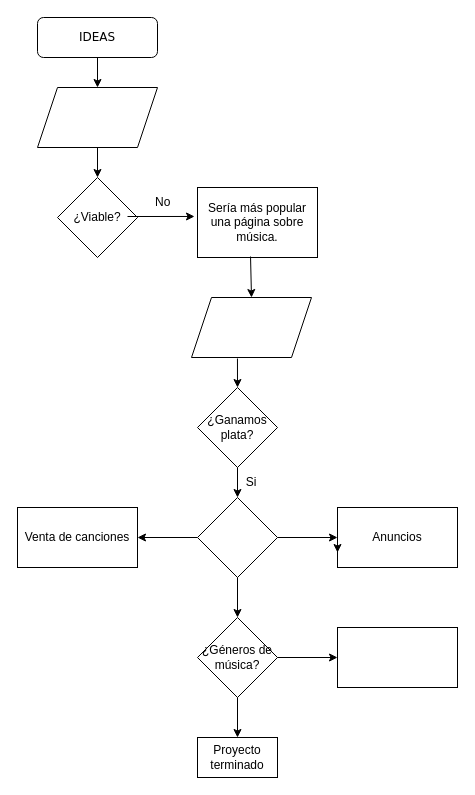
Image size: 475x795. Some labels were removed from this diagram. Here are the shapes that lost their labels. From the top down, the centre of each, then its label:
At point 97,117: "Librería".
At point 251,327: "Disquería".
At point 237,537: "¿Cómo?".
At point 397,657: "Cualquier género musical".
